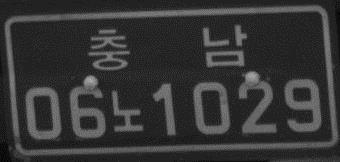0: (190, 79, 233, 138), (23, 84, 63, 140)
1: (151, 81, 179, 138)
2: (237, 77, 279, 138)
6: (67, 83, 107, 140)
9: (282, 77, 324, 134)
노: (109, 87, 144, 135)
충남_D: (88, 20, 249, 74)
